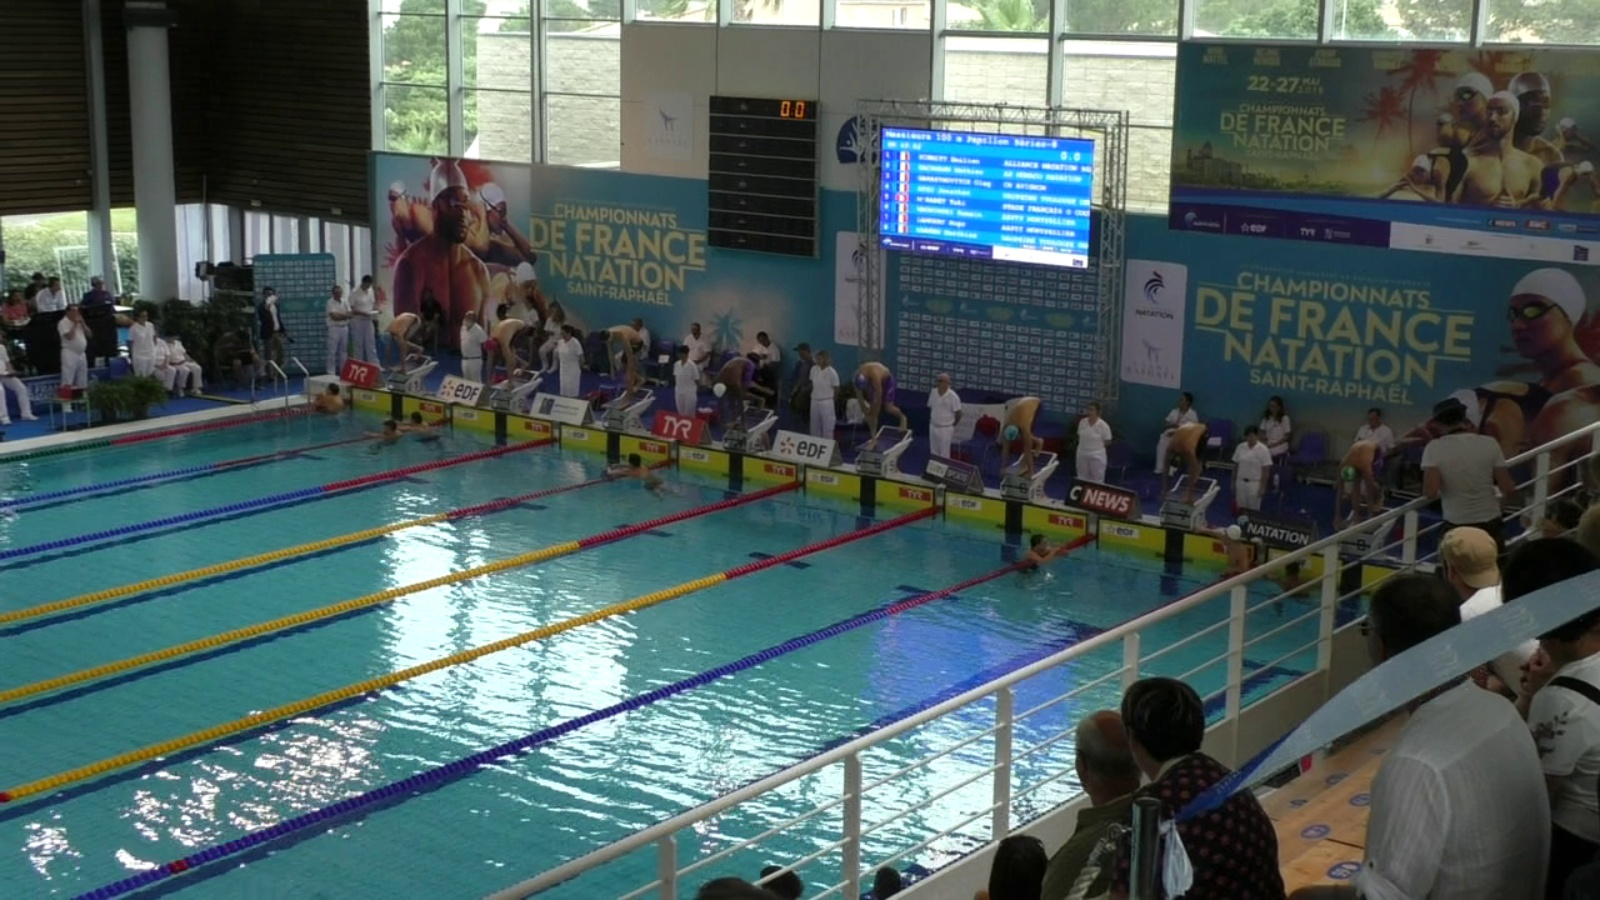swimmerw: (1158, 423, 1215, 503), (851, 359, 904, 443), (708, 351, 765, 426), (1335, 443, 1395, 515), (1199, 525, 1256, 593), (997, 395, 1044, 475), (600, 323, 651, 392), (608, 456, 675, 499), (487, 320, 533, 381), (1014, 534, 1062, 592), (1264, 557, 1323, 603)
